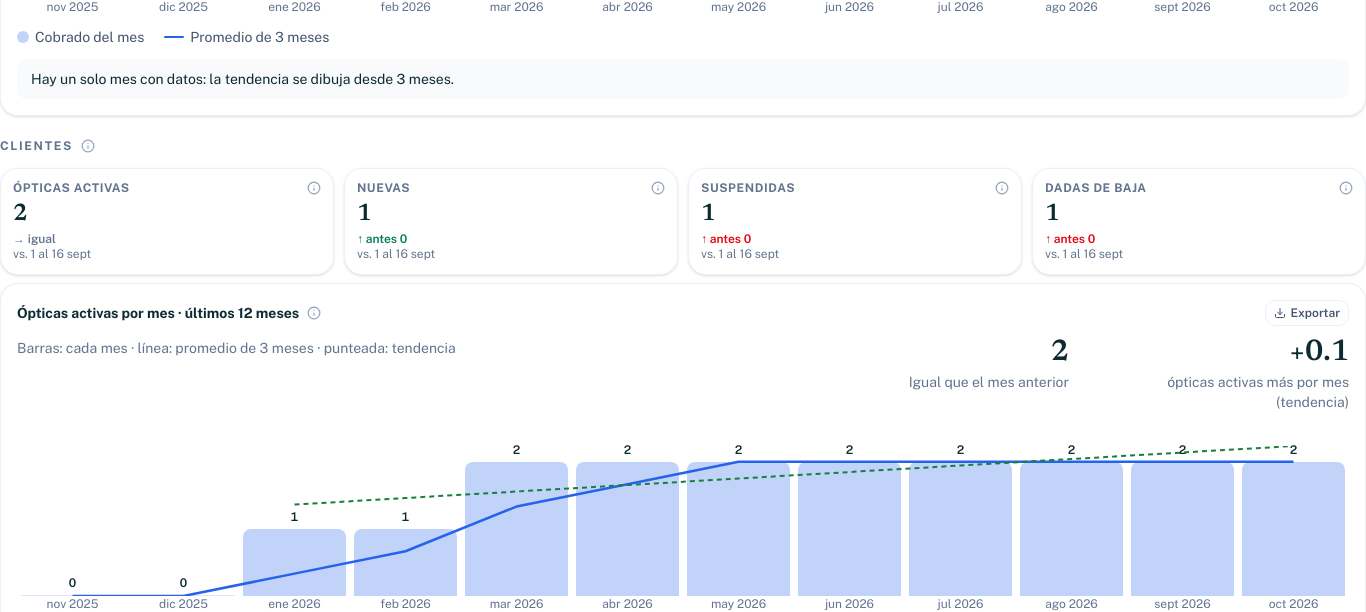
Test: Resumen del superadmin › cada número abre una lista con tantas filas como dice (y los números suman)
The image size is (1366, 612).
(page scrolled)
Click the button with aria-label "Ópticas activas: ": (52, 254) left=13, top=202, right=321, bottom=262
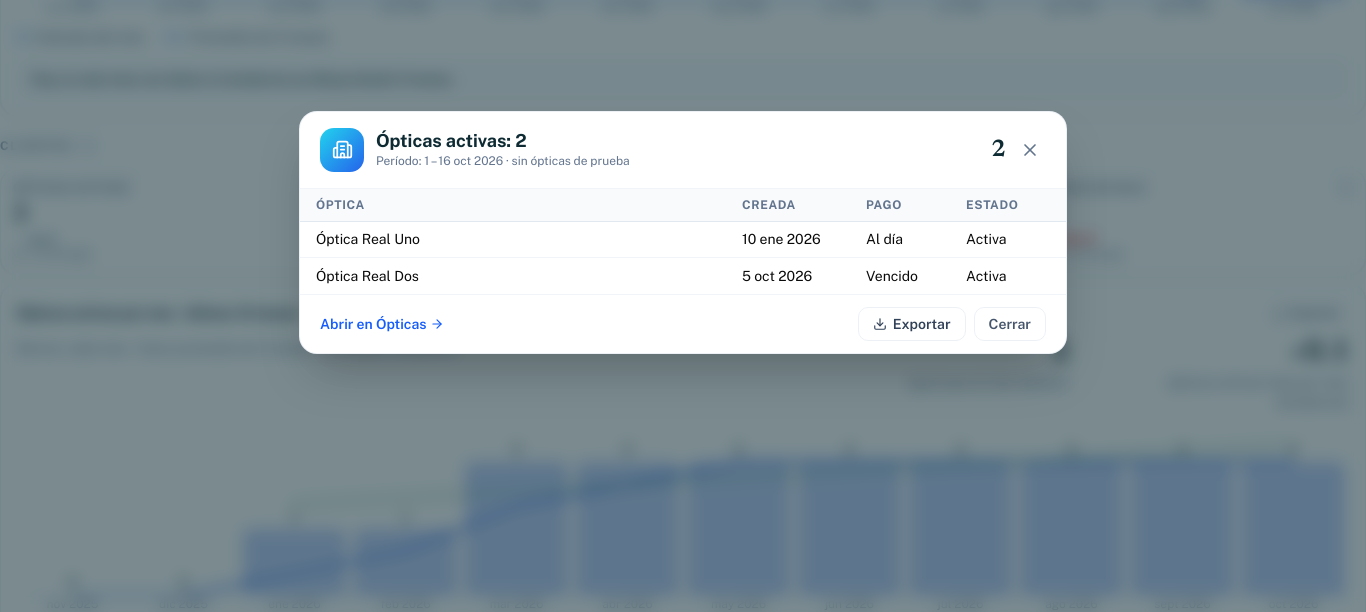
Check: the button "Abrir en Ópticas" is shown, box left=320, top=314, right=444, bottom=334
Click the button named "Cerrar": (1030, 150) left=1014, top=134, right=1046, bottom=166
(page scrolled)
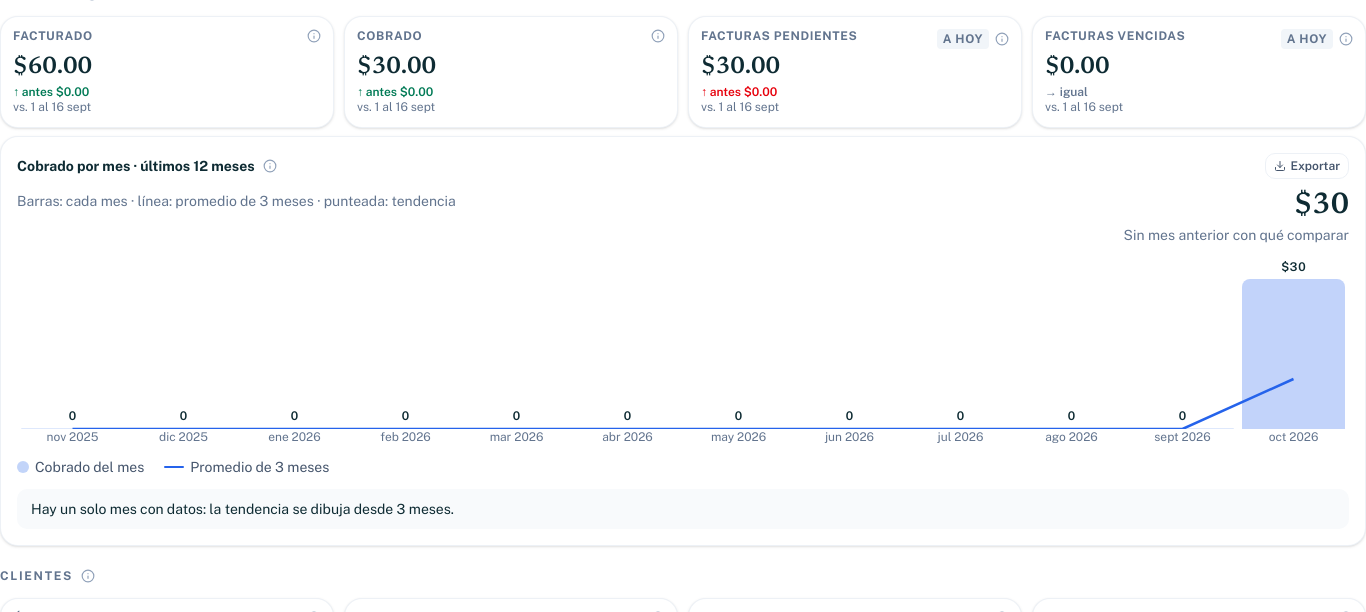
Click the button with aria-label "Facturas pendientes: ": (741, 67) left=701, top=55, right=1009, bottom=115
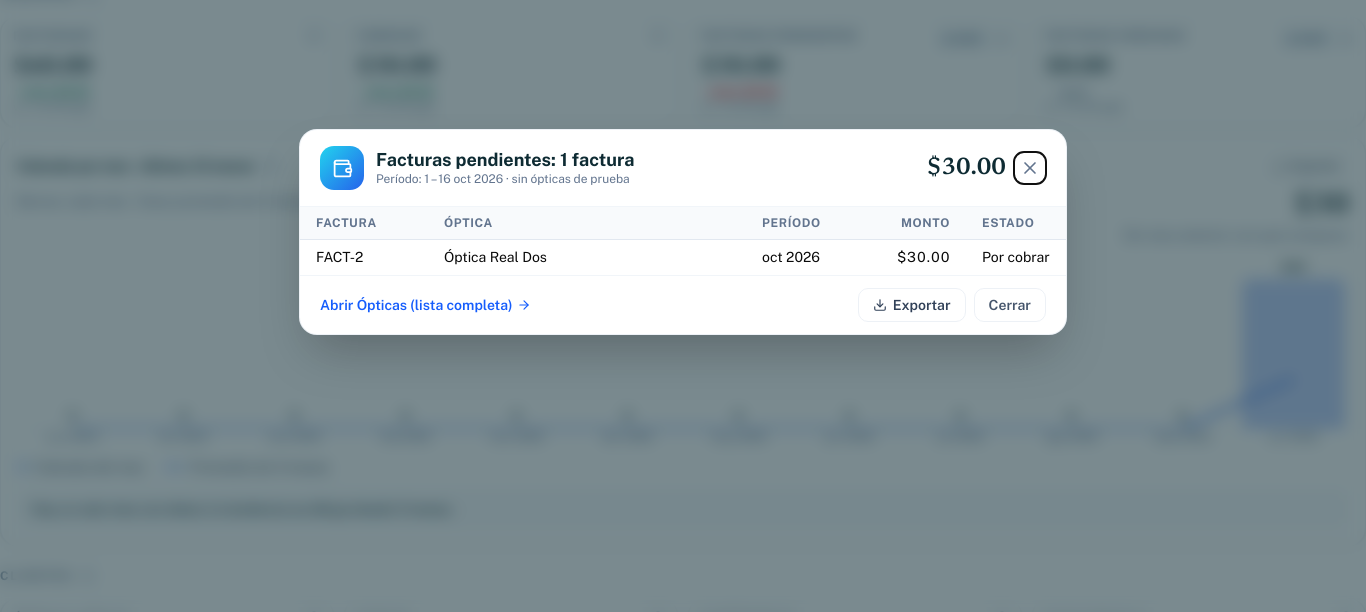
Check: the text "FACT-2" is shown, box left=300, top=239, right=428, bottom=275
